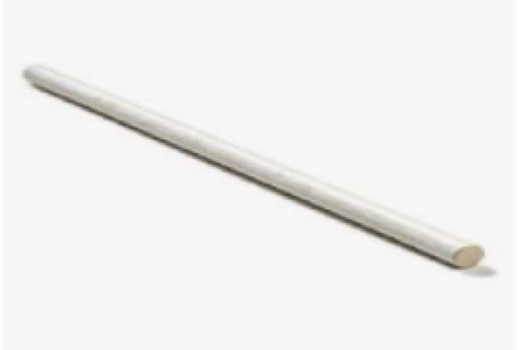baston_e: (48, 62, 448, 276)
baston_v: (436, 220, 492, 285), (10, 54, 52, 95)
